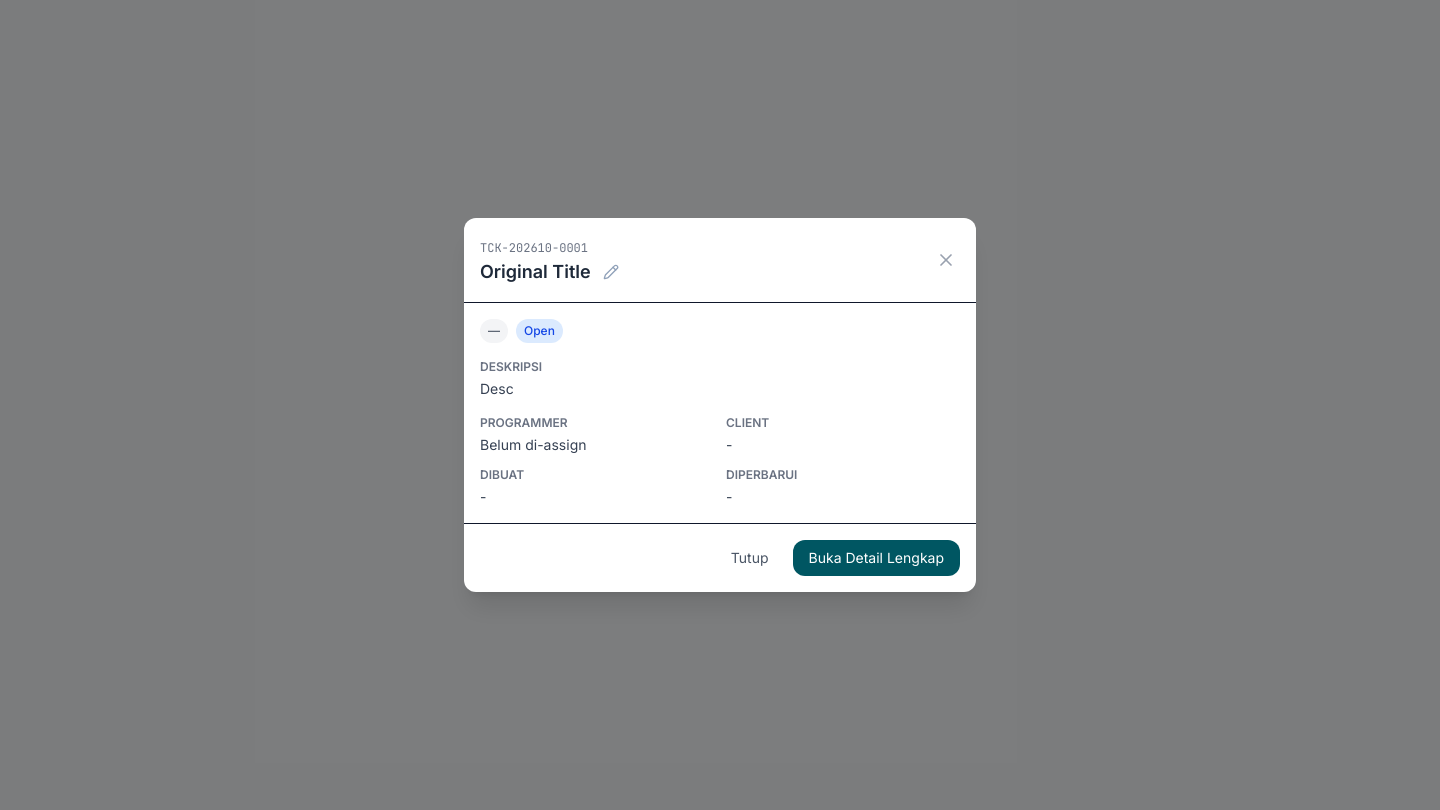
Test: TicketDetailModal — edit title › enters edit mode on pencil click
Click the button titled "Edit judul" at (611, 272), box [599,260,623,284]
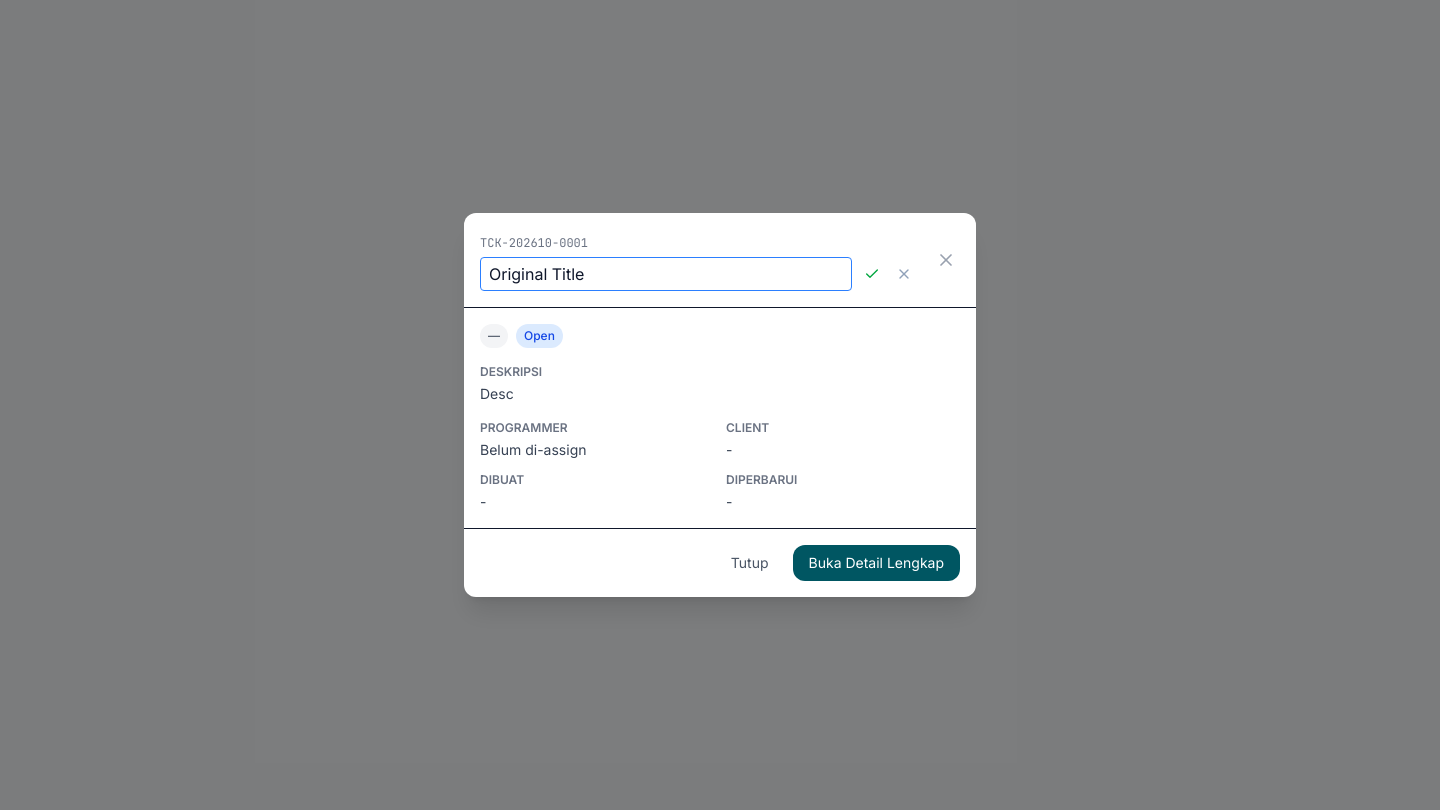
Result: the field showing "Original Title" is shown at [480,257,852,291]
